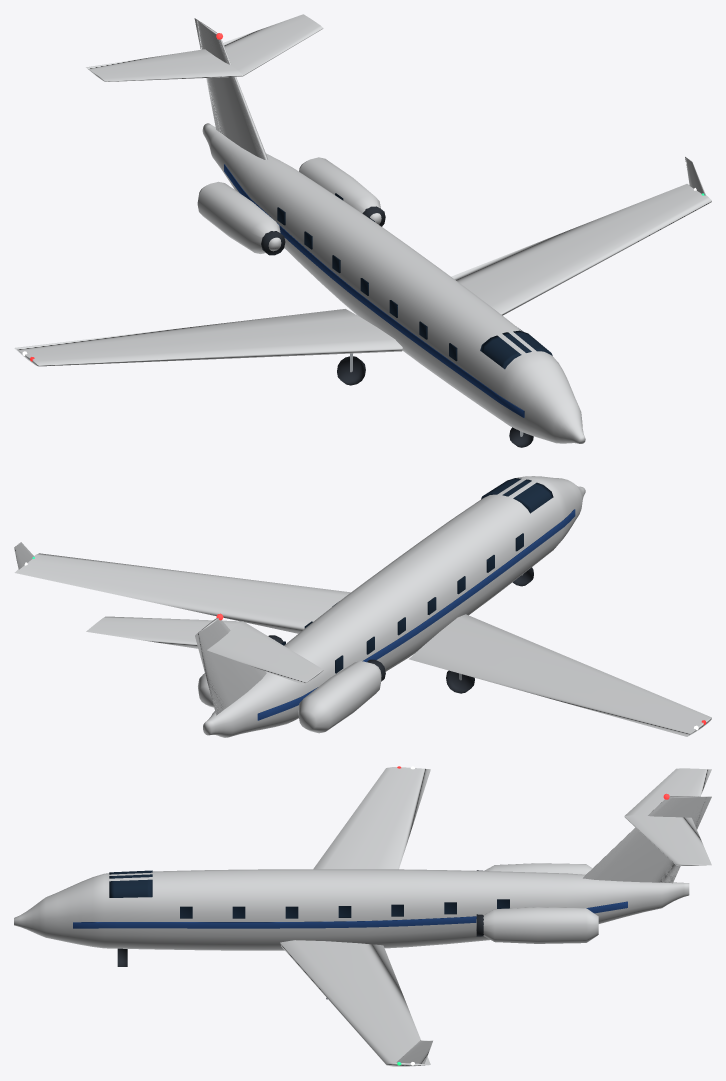
Rendered from bizjet.glb.
3 renders of one model, top to bottom at view 1: azimuth 30°, elevation 25°; view 2: azimuth 150°, elevation 25°; view 3: azimuth 270°, elevation 25°, orthographic. The views are drawn at different scales.
Parts seen in each view (by area): view 1: body, gearL; view 2: body, gearL; view 3: body.
Part boxes in pixels (box(x1,y1,x2,y2)): body: box(14, 14, 711, 443); gearL: box(337, 353, 365, 385); body: box(14, 476, 711, 737); gearL: box(446, 670, 474, 693); body: box(14, 767, 711, 1066).
Size of the model in its own units: 15.5 by 4.39 by 15.4.
